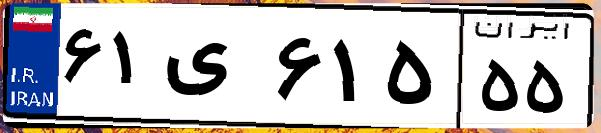1: (330, 28, 385, 110), (110, 28, 158, 98)
5: (385, 28, 445, 110), (475, 38, 525, 113), (525, 38, 570, 115)
6: (270, 28, 330, 110), (57, 26, 110, 100)
ی: (158, 20, 270, 120)
